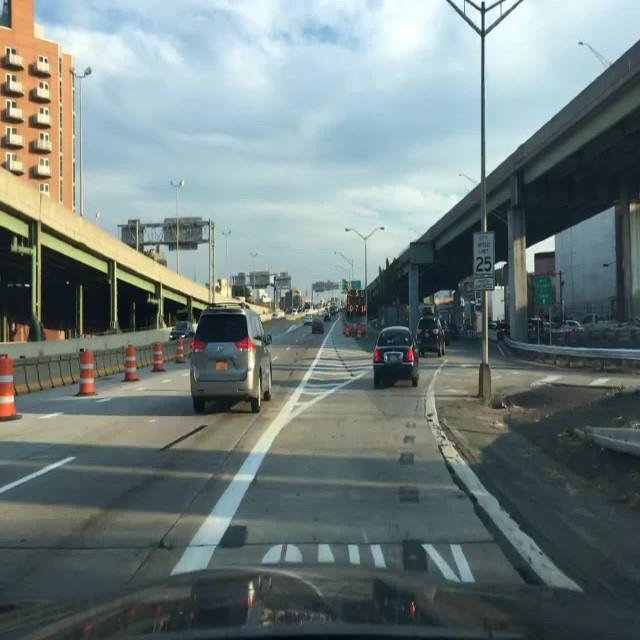normal: (165, 267, 467, 429)
